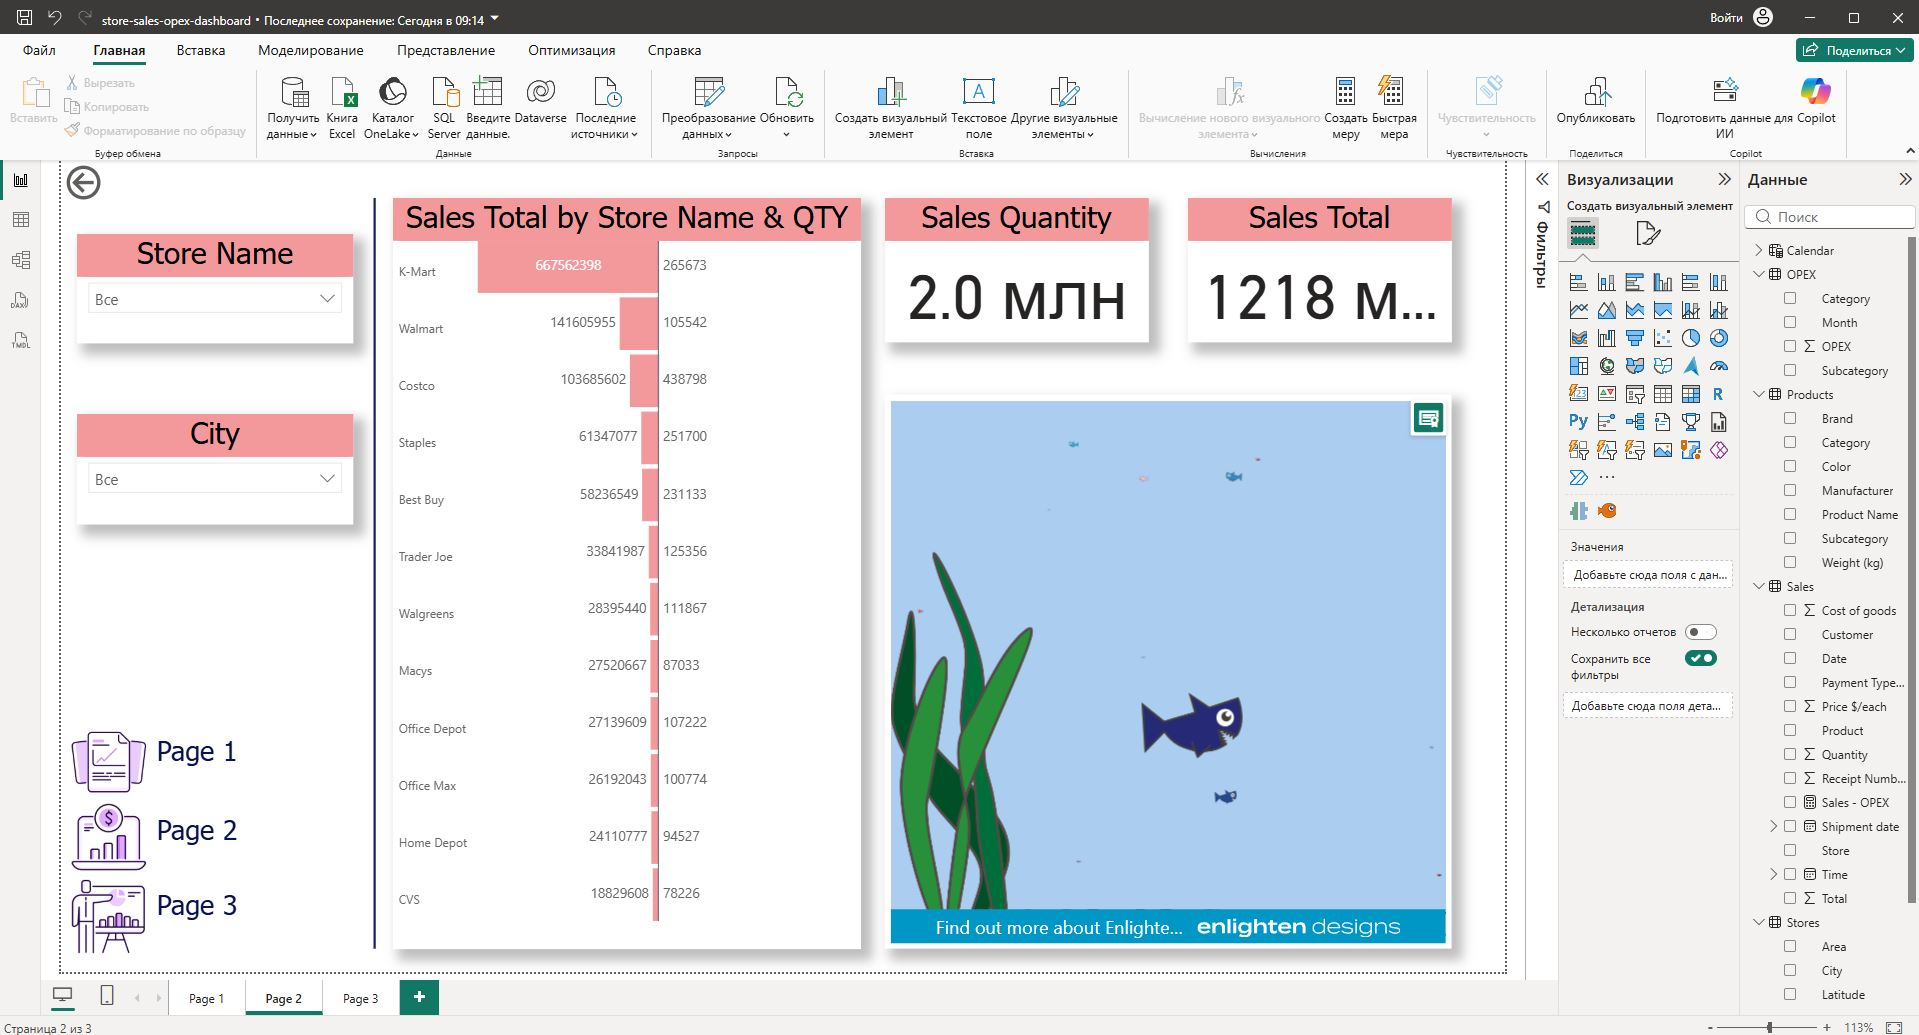

What the dashboard file says about the page in this screenshot:
{"tool":"powerbi","page":{"name":"Page 2","canvas":[1280,720],"ordinal":1},"visuals":[{"type":"card","title":"Sales Total","fields":{"Values":["Sum(Sales.Total)"]},"box":[999.5,33.9,233.5,128.3],"z":0},{"type":"card","title":"Sales Quantity","fields":{"Values":["Sum(Sales.Quantity)"]},"box":[730.9,33.9,233.5,128.3],"z":1000},{"type":"slicer","title":"Store Name","fields":{"Values":["Stores.Store Name"]},"box":[14.5,171.8,244.4,96.8],"z":2000},{"type":"slicer","title":"City","fields":{"Values":["Stores.City"]},"box":[14.5,300.1,244.4,96.8],"z":3000},{"type":"shape","box":[240.8,33.9,73.8,665.5],"z":4000},{"type":"image","box":[4.8,20.6,159.7,128.3],"z":5000},{"type":"textbox","box":[50.8,84.7,254.1,87.1],"z":6000},{"type":"Aquarium1442671919391","title":"Sales Total by Store Name","fields":{"Category":["Stores.Store Name"],"Series":["Sum(Sales.Total)"]},"box":[730.9,208.1,502.2,491.3],"z":7000},{"type":"TornadoChart1452517688218","title":"Sales Total by Store Name & QTY","fields":{"Values":["Sum(Sales.Total)","Sum(Sales.Quantity)"],"Category":["Stores.Store Name"]},"box":[294.1,33.9,415.1,665.5],"z":8000},{"type":"actionButton","box":[0,0,100,40],"z":9000},{"type":"image","box":[4.8,493.7,76.2,79.9],"z":10000},{"type":"image","box":[4.8,560.3,76.2,79.9],"z":11000},{"type":"image","box":[4.8,631.7,75,79.9],"z":12000},{"type":"textbox","box":[79.9,503.4,130.7,56.9],"z":13000},{"type":"textbox","box":[79.9,573.6,130.7,56.9],"z":14000},{"type":"textbox","box":[79.9,640.1,130.7,56.9],"z":15000}]}

Visuals, with their boxes on the page's 1280x720 design canvas (x1, y1, x2, y2). These are canvas units, not pixel positions in the 1919x1035 screenshot, which may show the page scaled, cropped or inside an application window:
"Sales Total" card: [x1=1000, y1=34, x2=1233, y2=162]
"Sales Quantity" card: [x1=731, y1=34, x2=964, y2=162]
"Store Name" slicer: [x1=14, y1=172, x2=259, y2=269]
"City" slicer: [x1=14, y1=300, x2=259, y2=397]
shape: [x1=241, y1=34, x2=315, y2=699]
image: [x1=5, y1=21, x2=164, y2=149]
textbox: [x1=51, y1=85, x2=305, y2=172]
"Sales Total by Store Name" Aquarium1442671919391: [x1=731, y1=208, x2=1233, y2=699]
"Sales Total by Store Name & QTY" TornadoChart1452517688218: [x1=294, y1=34, x2=709, y2=699]
actionButton: [x1=0, y1=0, x2=100, y2=40]
image: [x1=5, y1=494, x2=81, y2=574]
image: [x1=5, y1=560, x2=81, y2=640]
image: [x1=5, y1=632, x2=80, y2=712]
textbox: [x1=80, y1=503, x2=211, y2=560]
textbox: [x1=80, y1=574, x2=211, y2=630]
textbox: [x1=80, y1=640, x2=211, y2=697]
